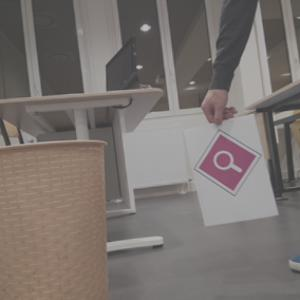search: (195, 129, 260, 195)
